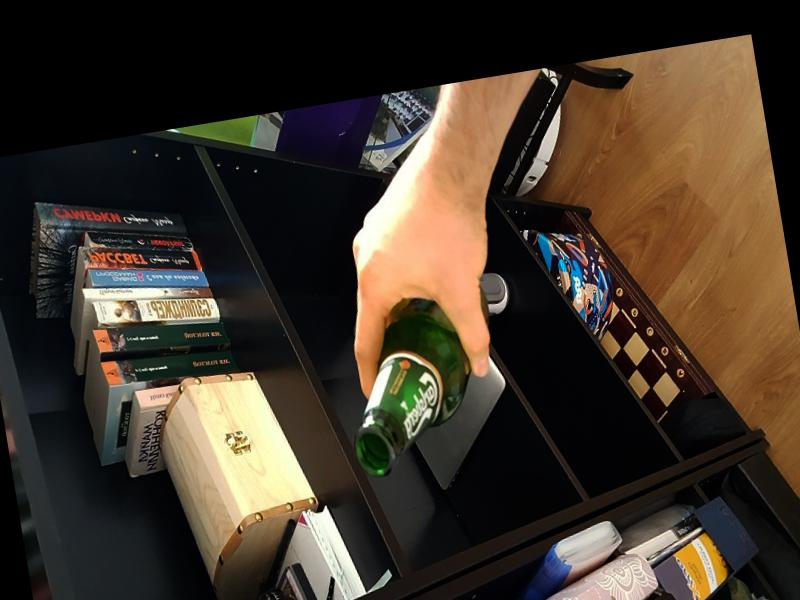Beer: (332, 275, 513, 480)
